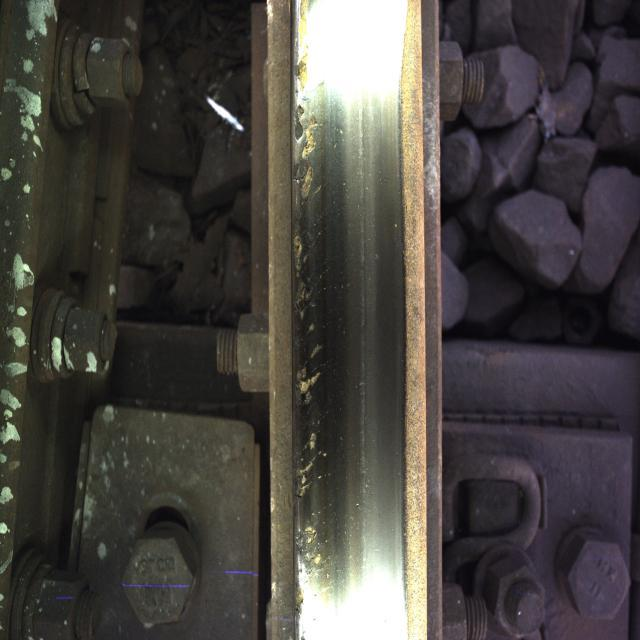scar: (289, 0, 350, 596)
